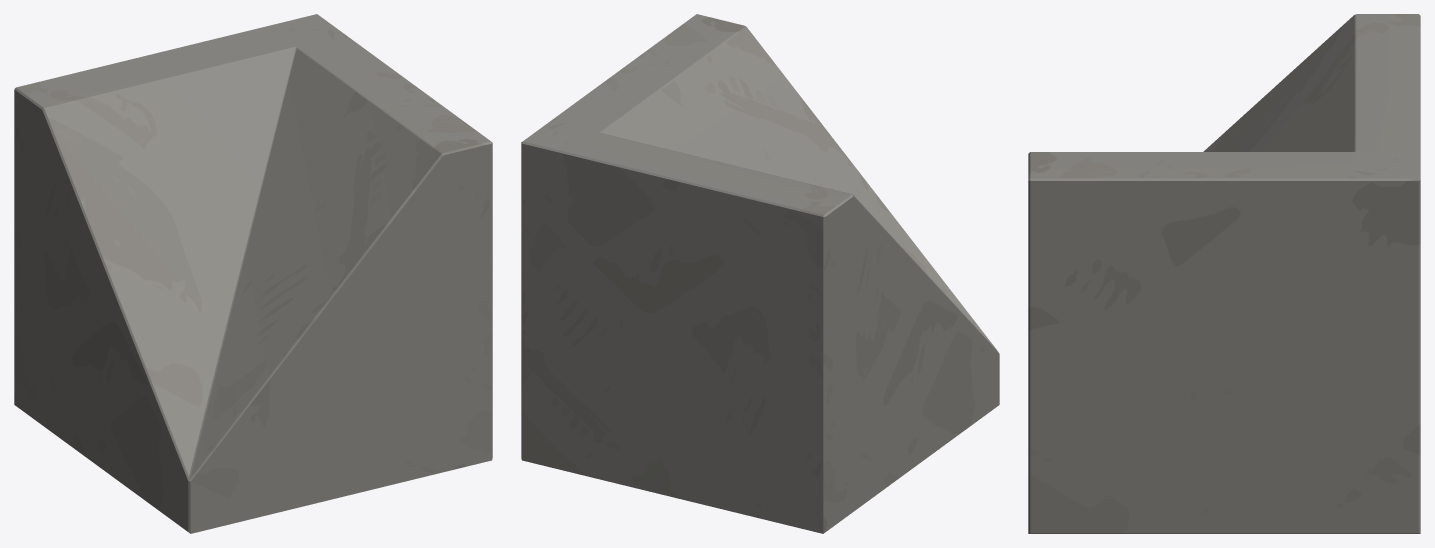
File: model_concrete_ramp_02.fbx
The picture shows the model from 3 angles, left to right: view 1: azimuth 30°, elevation 25°; view 2: azimuth 150°, elevation 25°; view 3: azimuth 270°, elevation 25°; orthographic projection. The views are drawn at different scales.
Parts seen in each view (by area): view 1: model_concrete_ramp_02; view 2: model_concrete_ramp_02; view 3: model_concrete_ramp_02.
Boxes of the visible parts, left/top/right/bottom form: model_concrete_ramp_02: left=14, top=14, right=492, bottom=533; model_concrete_ramp_02: left=521, top=14, right=999, bottom=533; model_concrete_ramp_02: left=1028, top=14, right=1420, bottom=533.
Bounding box in the file's own units: 300 × 300 × 300.
1 material, 1 textured.
